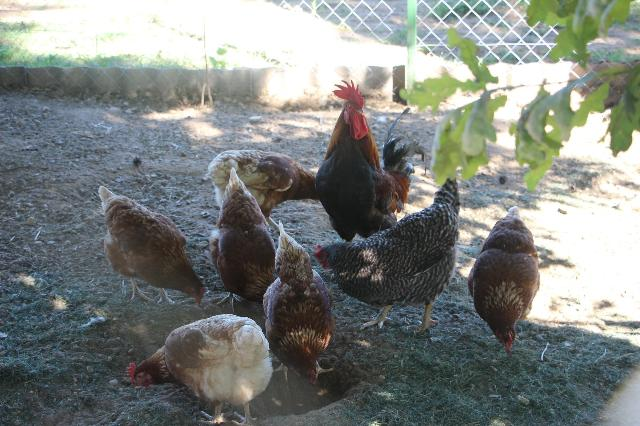Chicken: (313, 179, 460, 331), (316, 80, 427, 242), (126, 314, 273, 424), (98, 185, 206, 305), (263, 221, 334, 386), (470, 207, 540, 356), (210, 167, 278, 306), (207, 150, 321, 223)
